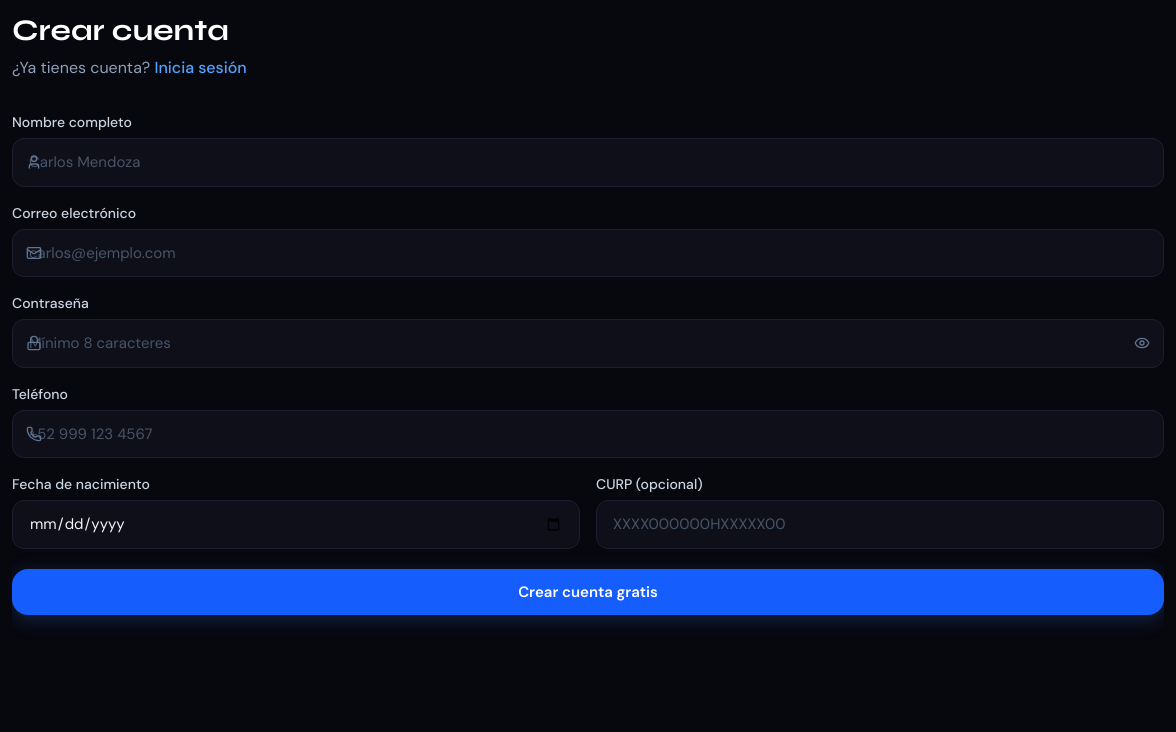
Test: SignupPage › rejects a malformed phone number specifically
Type "Carlos" into the field with placeholder "Carlos Mendoza" at [588, 162], box [12,138,1164,186]
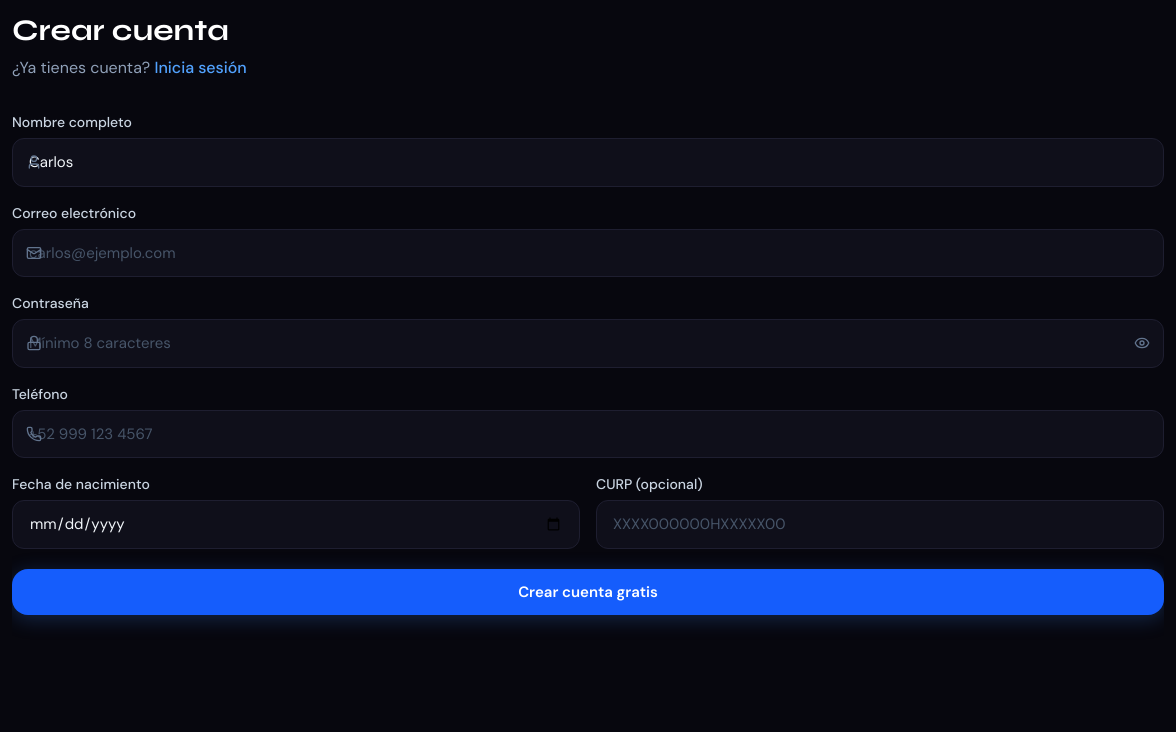
Type "c@b.com" into the field with placeholder "carlos@ejemplo.com" at [588, 253], box [12,228,1164,277]
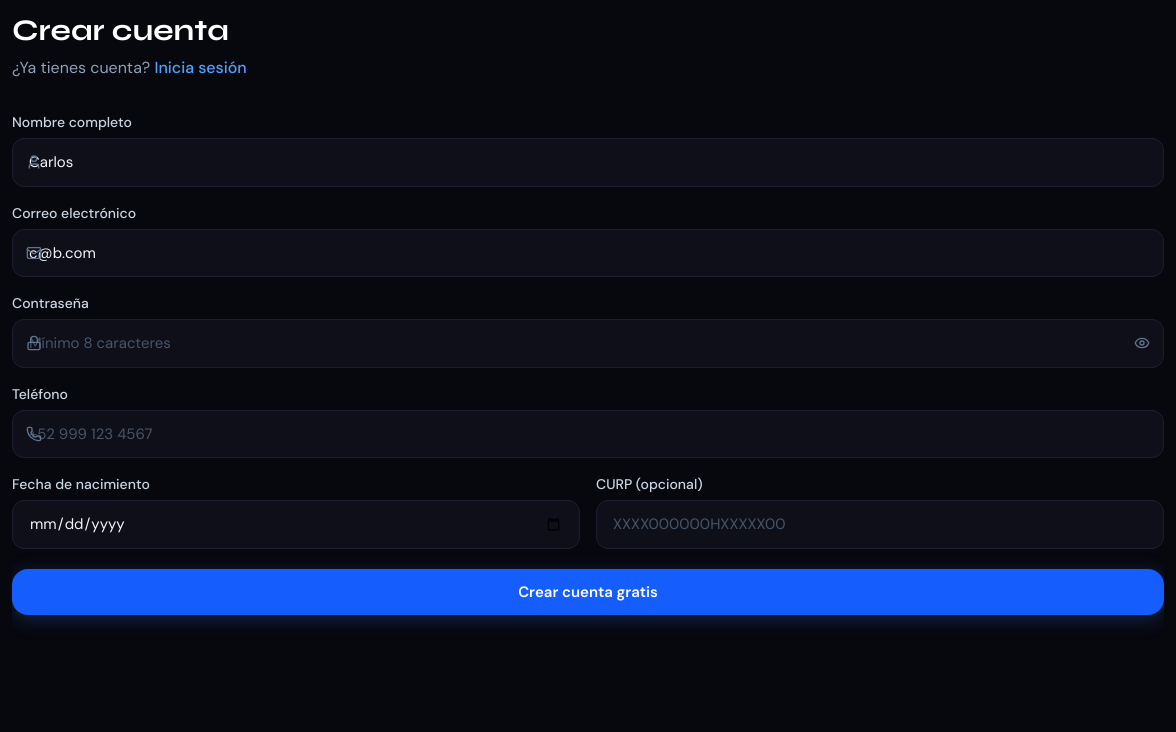
Type "P@ssw0rd1" into the password field with placeholder "Mínimo 8 caracteres" at [588, 343], box [12,319,1164,368]
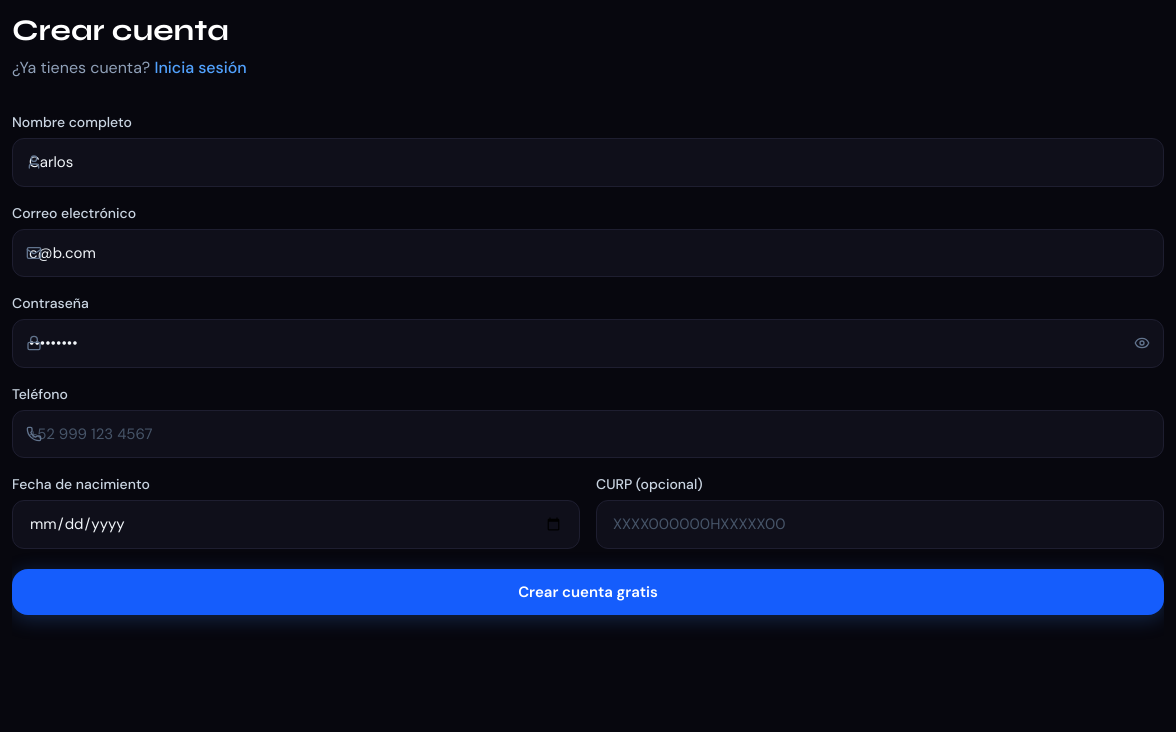
Type "abc" into the field with placeholder "+52 999 123 4567" at [588, 434], box [12,410,1164,458]
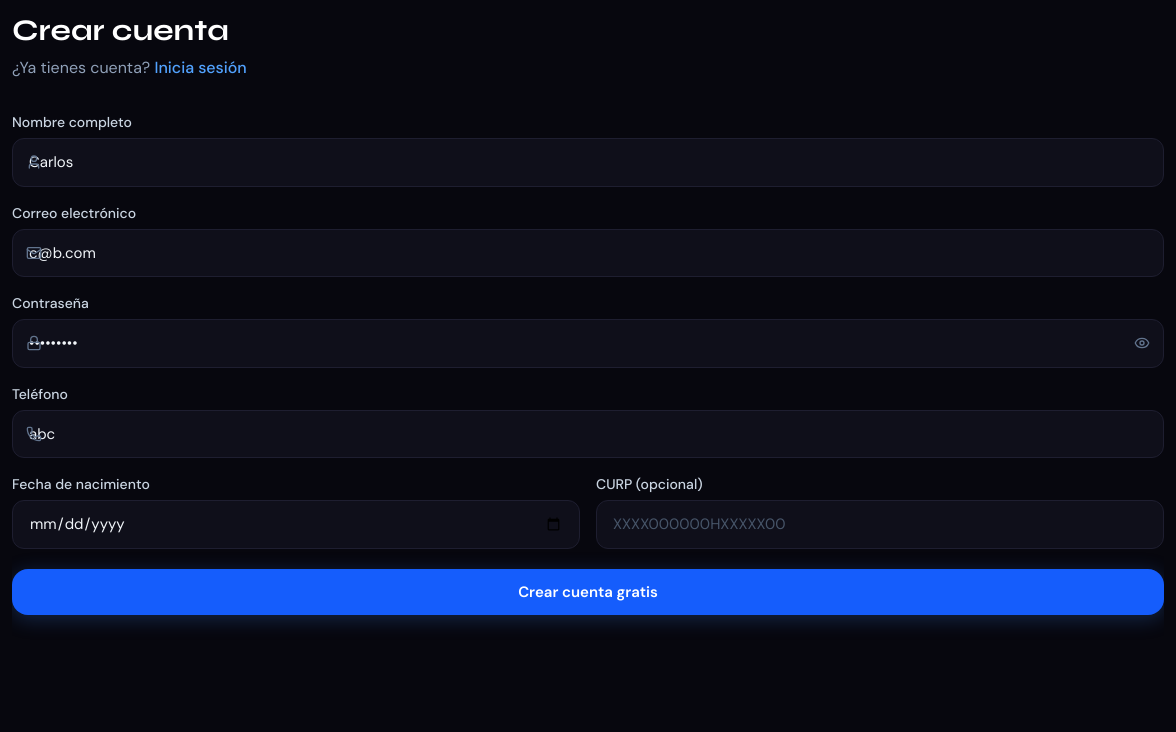
Click the button "Crear cuenta gratis" at [588, 592], box [12,568,1164,615]
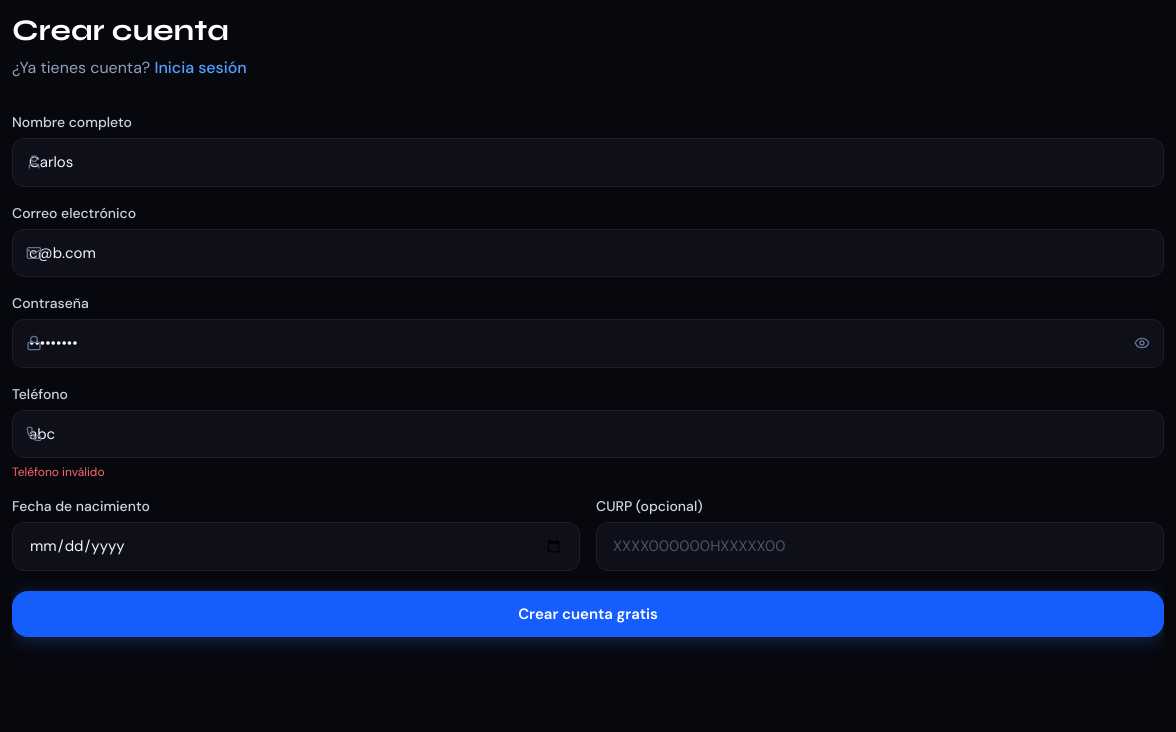
Result: the text "Teléfono inválido" is shown at [12,464,104,480]
